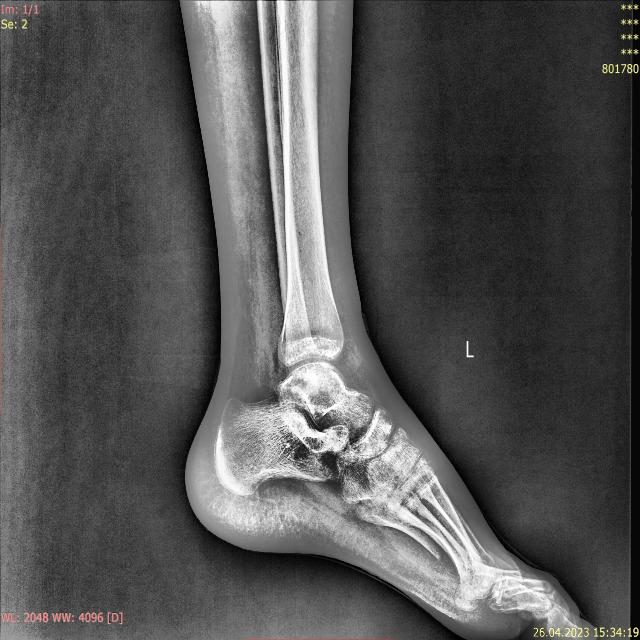Not_Fracture: (130, 0, 602, 640)
